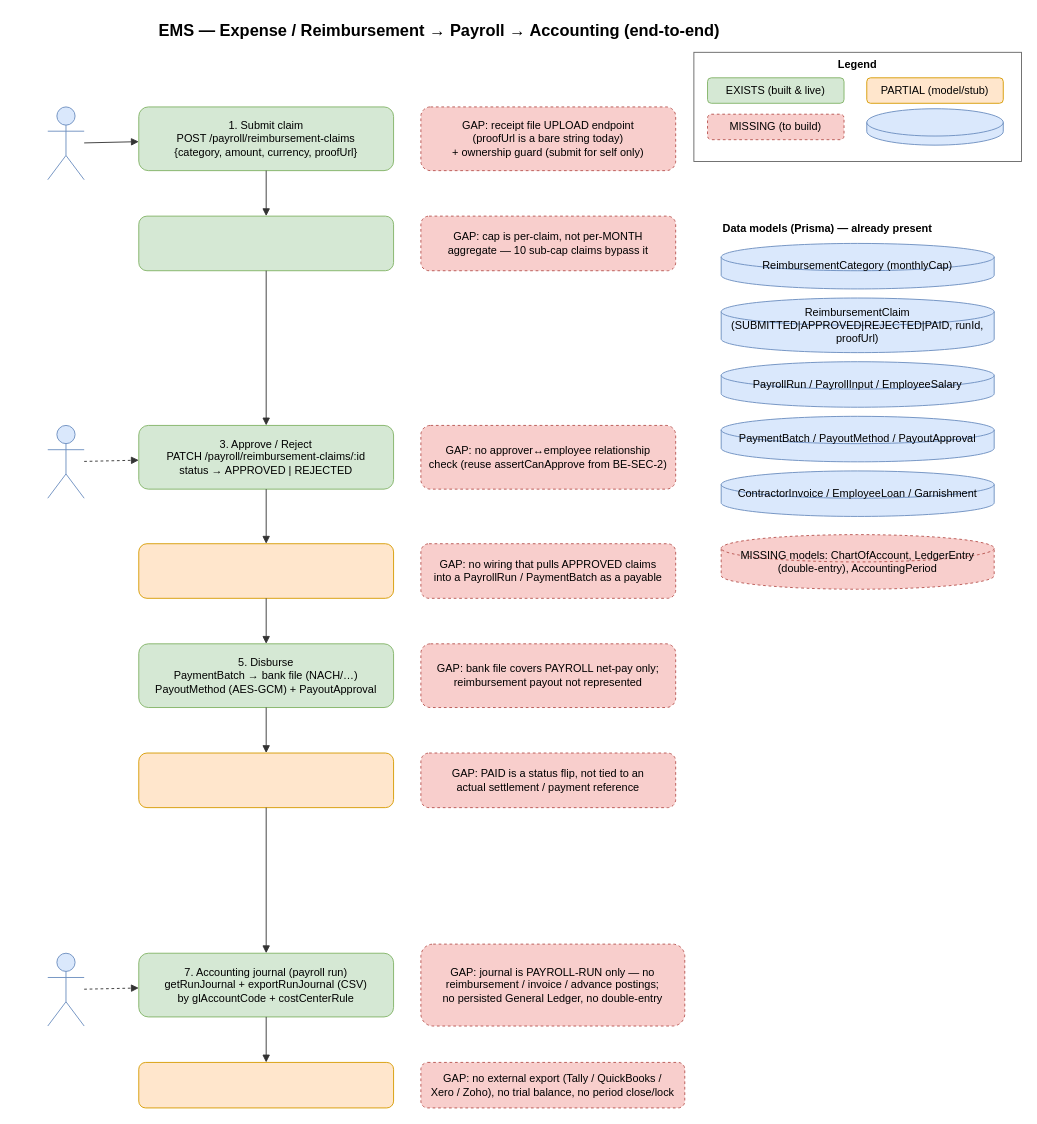
This 1037x1124 diagram has some shape labels left out. Each missing label, with the centre of its shape:
"2. Category monthly-cap check CLAIM_OVER_CAP 422 (per single claim)" belongs at point 266,243.
"4. Attach approved claim to a run ReimbursementClaim.runId (field exists)" belongs at point 266,570.
"6. Mark PAID status → PAID (decideReimbursementClaim)" belongs at point 266,780.
"8. Export / close" belongs at point 266,1085.
"Data model (Prisma)" belongs at point 934,126.
"Employee" belongs at point 65,143.
"Finance / Accounting" belongs at point 65,989.
"Manager / HR" belongs at point 65,461.
